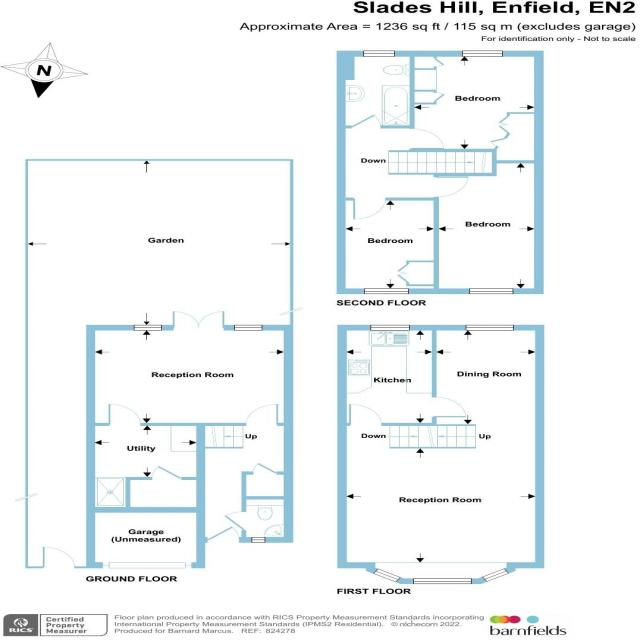DOOR: (345, 403, 383, 426), (351, 197, 388, 220), (245, 403, 281, 426), (107, 403, 142, 426), (433, 176, 469, 198), (431, 396, 466, 418), (411, 128, 445, 149), (205, 525, 241, 541), (150, 465, 183, 480), (223, 510, 246, 531)
DOUBLE DOOR: (172, 309, 225, 330)
ROOM: (337, 325, 545, 584), (87, 308, 295, 427), (433, 160, 544, 294), (410, 50, 543, 151), (337, 324, 468, 425), (336, 198, 439, 294)
WINDOW: (371, 568, 401, 583), (480, 567, 510, 582), (409, 578, 473, 584), (463, 324, 515, 331), (461, 50, 503, 57), (369, 324, 411, 331), (363, 288, 410, 294), (467, 288, 514, 294), (362, 50, 395, 57), (233, 324, 263, 331), (134, 324, 163, 331)
